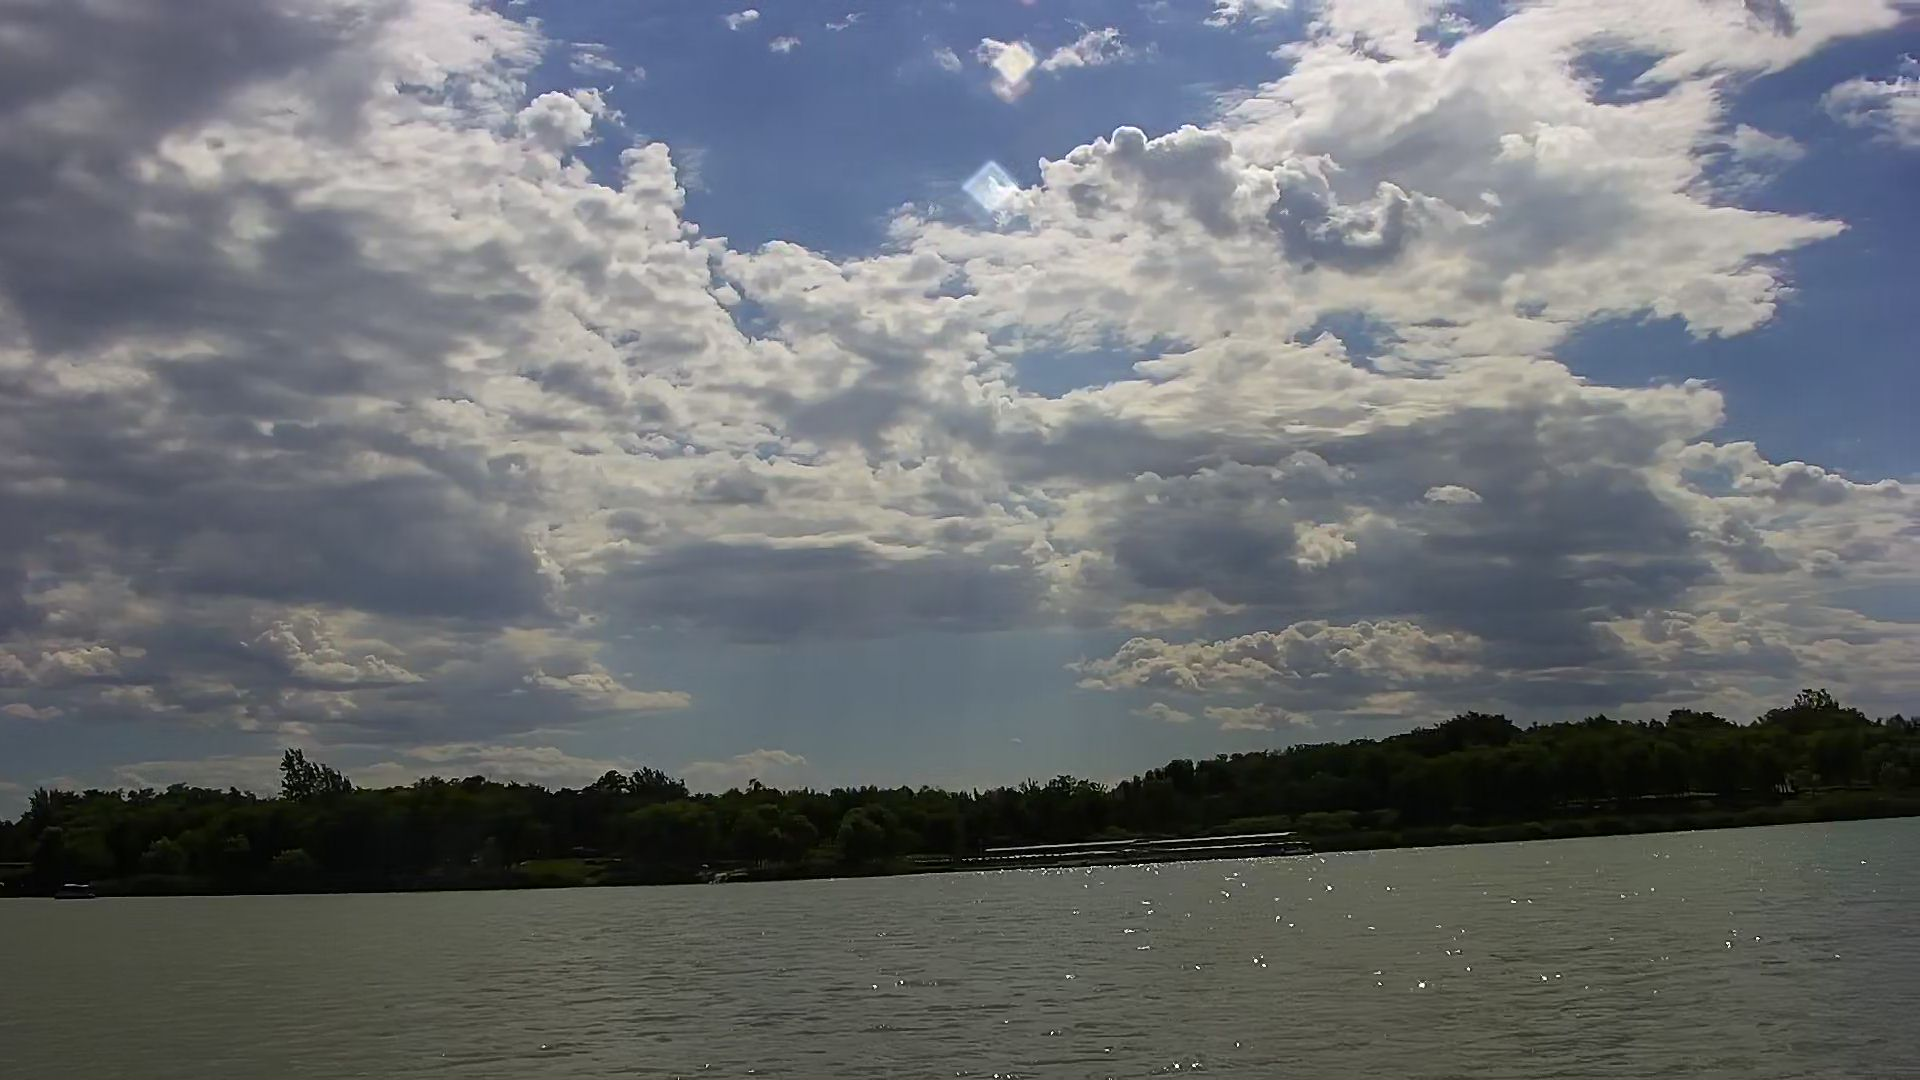harbor: (975, 828, 1317, 870)
